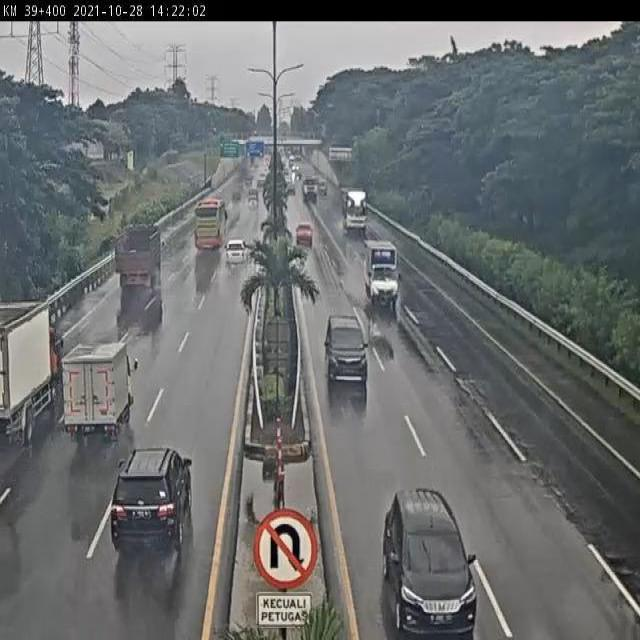big bus: (193, 196, 229, 251)
car: (380, 482, 480, 640), (110, 448, 195, 560), (322, 311, 371, 388), (221, 238, 251, 270), (294, 218, 314, 246)
truck-l-: (0, 303, 61, 447), (114, 225, 163, 292), (337, 184, 367, 233)
truck-s-: (61, 341, 135, 440), (361, 239, 402, 308)
